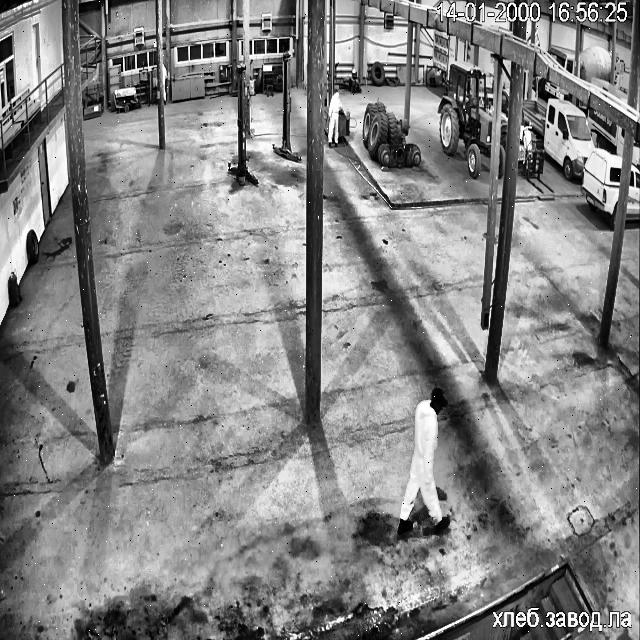class4: (398, 388, 448, 533), (328, 90, 341, 146), (162, 64, 167, 101)
class6: (438, 61, 492, 178), (362, 102, 420, 165), (498, 145, 504, 177)
class7: (524, 99, 593, 179), (581, 148, 620, 228), (588, 108, 624, 156), (592, 78, 626, 102), (626, 165, 640, 219), (548, 45, 574, 73), (536, 78, 566, 100), (632, 142, 640, 164)
tractor: (8, 270, 21, 306), (245, 83, 250, 105)
truck: (228, 65, 257, 185), (272, 52, 300, 161)
